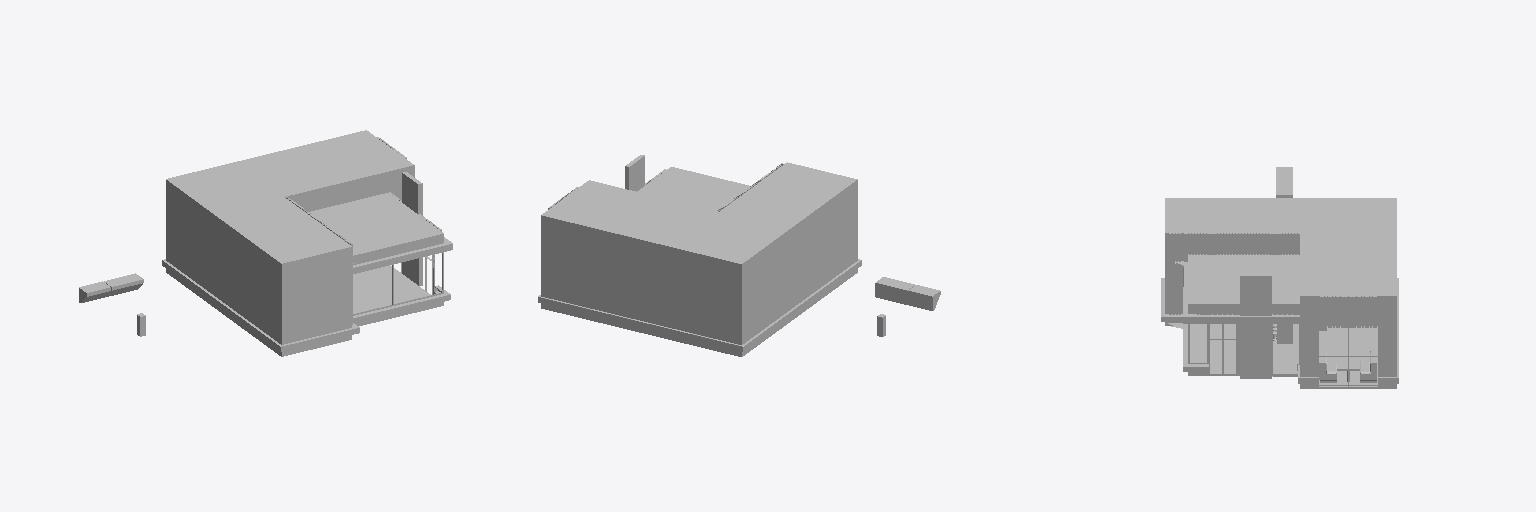
The model's file is kafev3test.obj.
3 renders of one model, left to right at view 1: azimuth 30°, elevation 25°; view 2: azimuth 150°, elevation 25°; view 3: azimuth 270°, elevation 25°, orthographic.
Visible parts, largest first — view 1: blackbuild, whitebuild, noup, pollbuild, redbuild, Cube.005, framebuild; view 2: blackbuild, whitebuild, pollbuild, Cube.005, redbuild; view 3: blackbuild, noup, stickbuild, redbuild, whitebuild, woodbuild, Cube.001, framebuild, Cube.005.
Boxes of the visible parts, box(x1,y1,x2,y2) form: blackbuild: box(166, 130, 443, 344); whitebuild: box(162, 237, 452, 351); noup: box(353, 265, 430, 313); pollbuild: box(166, 258, 443, 356); redbuild: box(402, 172, 422, 285); Cube.005: box(79, 273, 143, 302); framebuild: box(353, 252, 443, 315); blackbuild: box(541, 162, 857, 344); whitebuild: box(538, 259, 861, 351); pollbuild: box(541, 269, 857, 356); Cube.005: box(875, 277, 940, 310); redbuild: box(625, 155, 644, 191); blackbuild: box(1165, 198, 1396, 376); noup: box(1168, 323, 1377, 385); stickbuild: box(1169, 233, 1376, 327); redbuild: box(1240, 274, 1271, 378); whitebuild: box(1161, 266, 1398, 383); woodbuild: box(1172, 233, 1377, 325); Cube.001: box(1319, 350, 1376, 382); framebuild: box(1188, 324, 1377, 388); Cube.005: box(1276, 167, 1292, 197).
Bounding box in the file's own units: 1225 × 351 × 737.